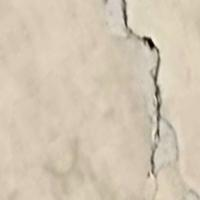crack: (108, 1, 176, 171)
